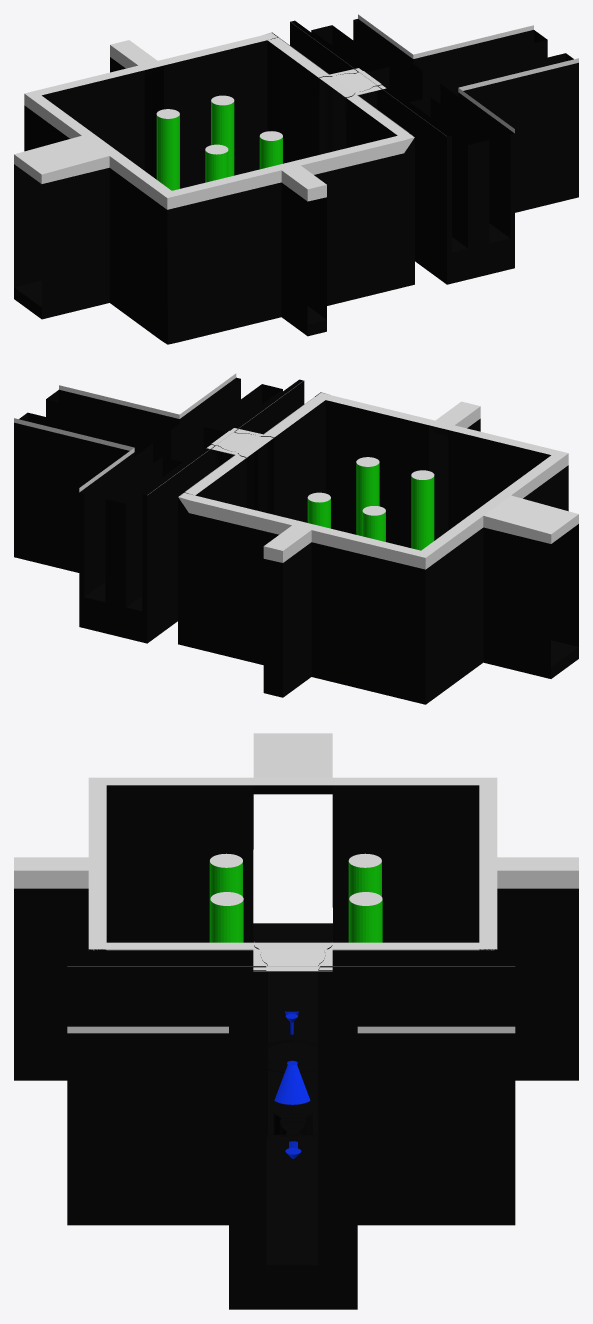
The model's file is Map1.fbx.
3 renders of one model, top to bottom at view 1: azimuth 30°, elevation 25°; view 2: azimuth 150°, elevation 25°; view 3: azimuth 270°, elevation 25°, orthographic. The views are drawn at different scales.
Visible parts, largest first — view 1: Cylinder.005; view 2: Cylinder.005; view 3: Cylinder.005.
Part boxes in pixels (left/top/right/bottom): Cylinder.005: left=14, top=14, right=578, bottom=344; Cylinder.005: left=14, top=373, right=578, bottom=704; Cylinder.005: left=14, top=733, right=578, bottom=1309.
Bounding box in the file's own units: 48432 × 13470 × 31381.
